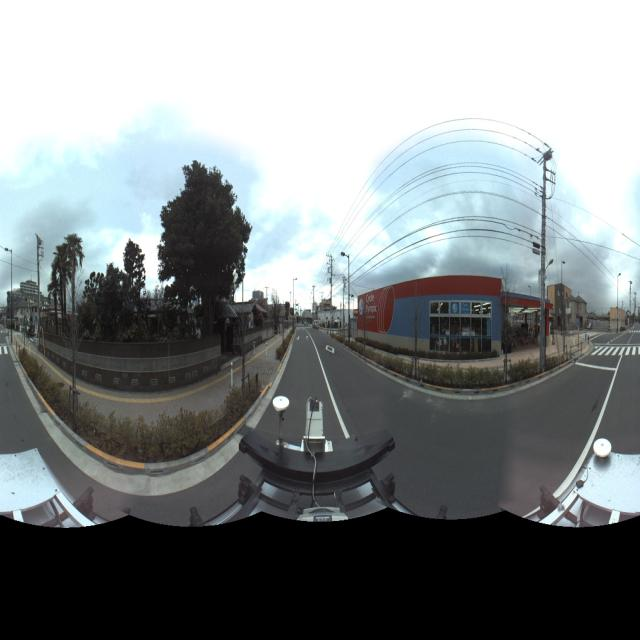b_1: (546, 279, 567, 330), (566, 292, 590, 336), (608, 303, 626, 337)
b_2: (173, 294, 230, 363)
